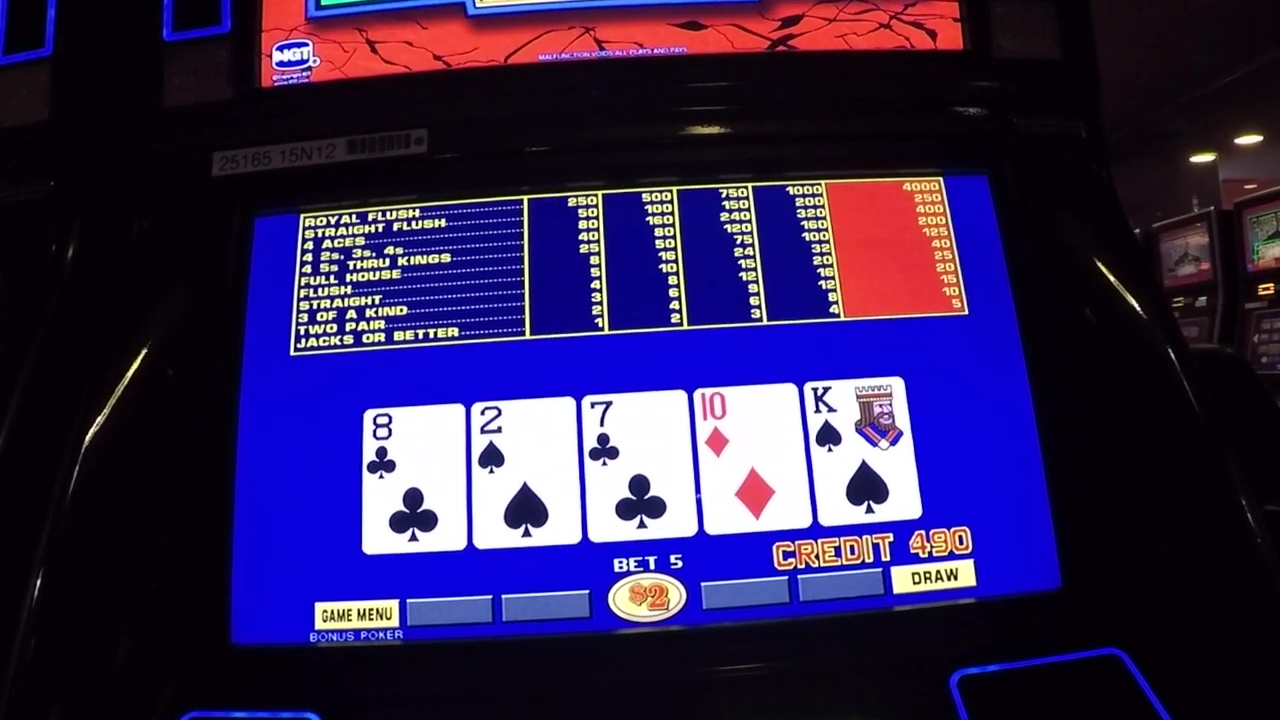C7: (586, 396, 689, 465)
C8: (365, 411, 464, 477)
DT: (698, 389, 796, 461)
S2: (476, 404, 575, 471)
SK: (812, 385, 908, 456)
